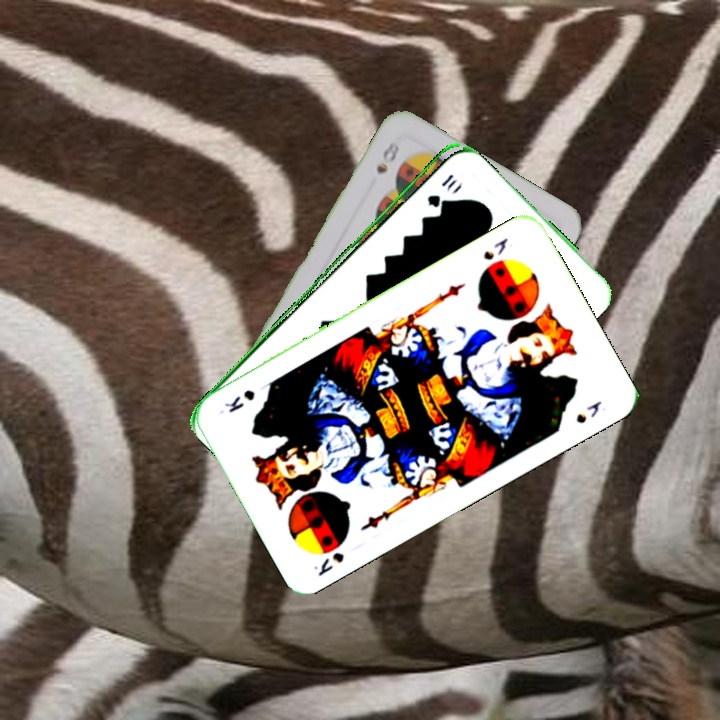G10: (422, 170, 456, 209)
S8: (372, 136, 402, 177)
SK: (309, 548, 347, 579), (479, 233, 511, 263)
